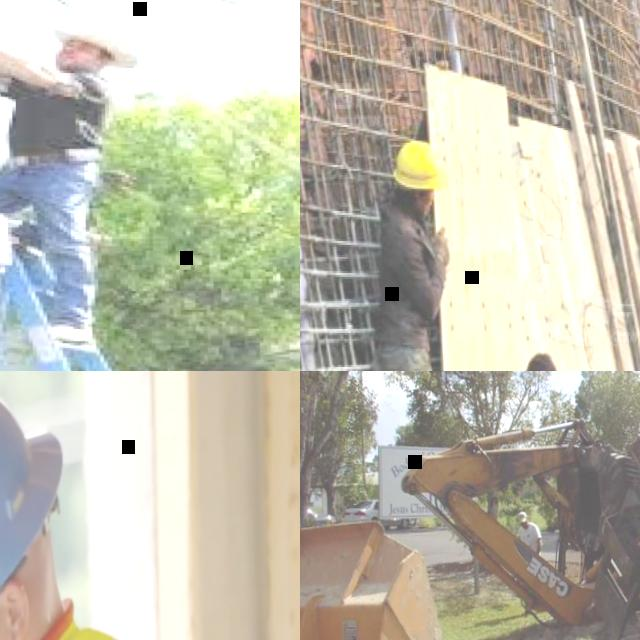Hardhat: (0, 379, 68, 632), (392, 136, 441, 191)
NO-Hardhat: (66, 25, 130, 51), (521, 348, 558, 371), (517, 508, 526, 521)
NO-Mask: (55, 50, 94, 67), (411, 192, 430, 213), (521, 524, 528, 529)
NO-Safety Vest: (375, 200, 433, 350), (7, 68, 102, 151), (519, 523, 535, 546)
Person: (0, 377, 215, 640), (0, 13, 119, 344), (364, 128, 469, 371), (515, 509, 543, 614)
vehicle: (401, 419, 640, 640), (300, 515, 518, 640), (342, 498, 395, 528)
